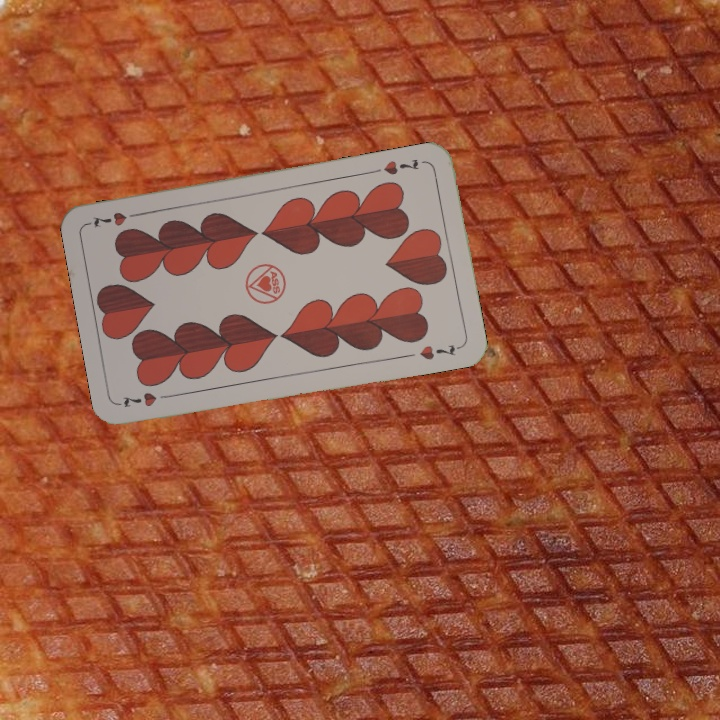H7: (117, 388, 176, 410), (370, 154, 421, 178)
